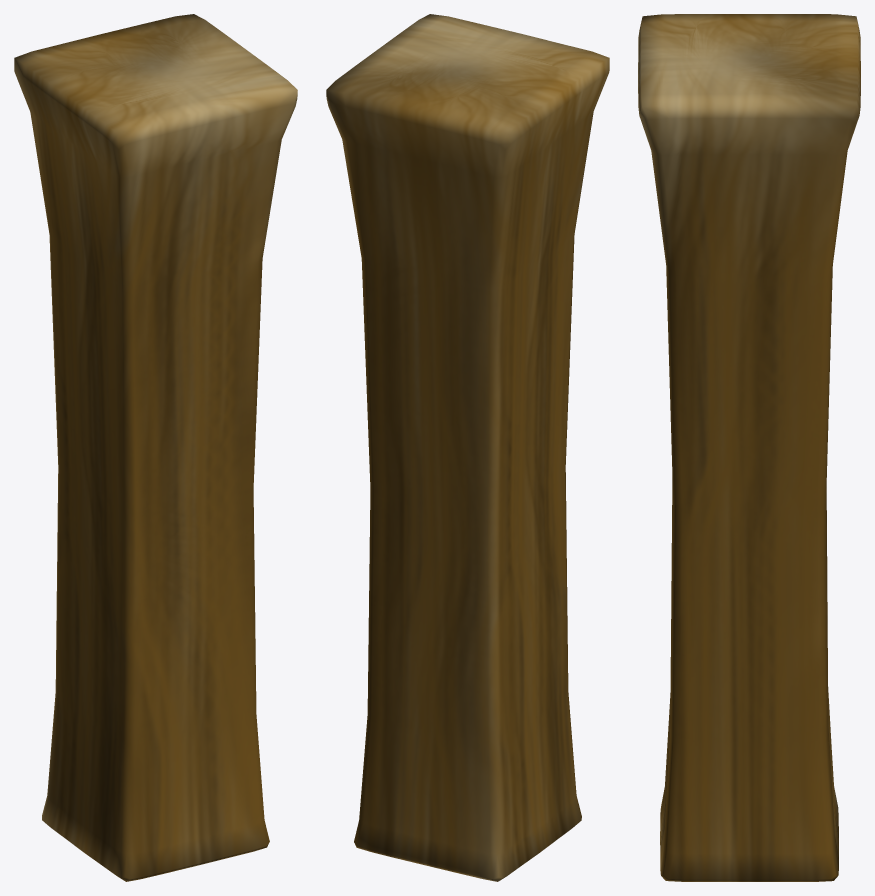
File: Pilar.fbx
The picture shows the model from 3 angles, left to right: view 1: azimuth 30°, elevation 25°; view 2: azimuth 150°, elevation 25°; view 3: azimuth 270°, elevation 25°; orthographic projection. The views are drawn at different scales.
Visible parts, largest first — view 1: pCube20; view 2: pCube20; view 3: pCube20.
Part boxes in pixels (bbox=[...]): pCube20: bbox=[14, 14, 297, 881]; pCube20: bbox=[326, 14, 609, 881]; pCube20: bbox=[638, 14, 860, 881].
Bounding box in the file's own units: 127 × 497 × 127.
